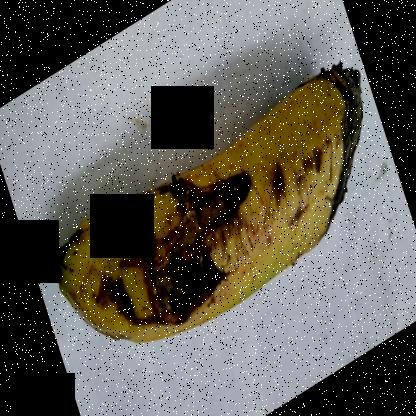rotten: (101, 130, 249, 361), (289, 31, 397, 254)
